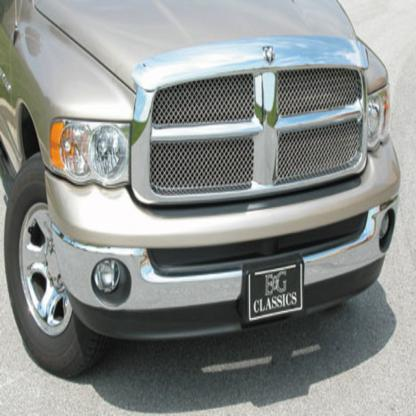Car: (0, 0, 402, 380)
Truck: (0, 0, 401, 378)
